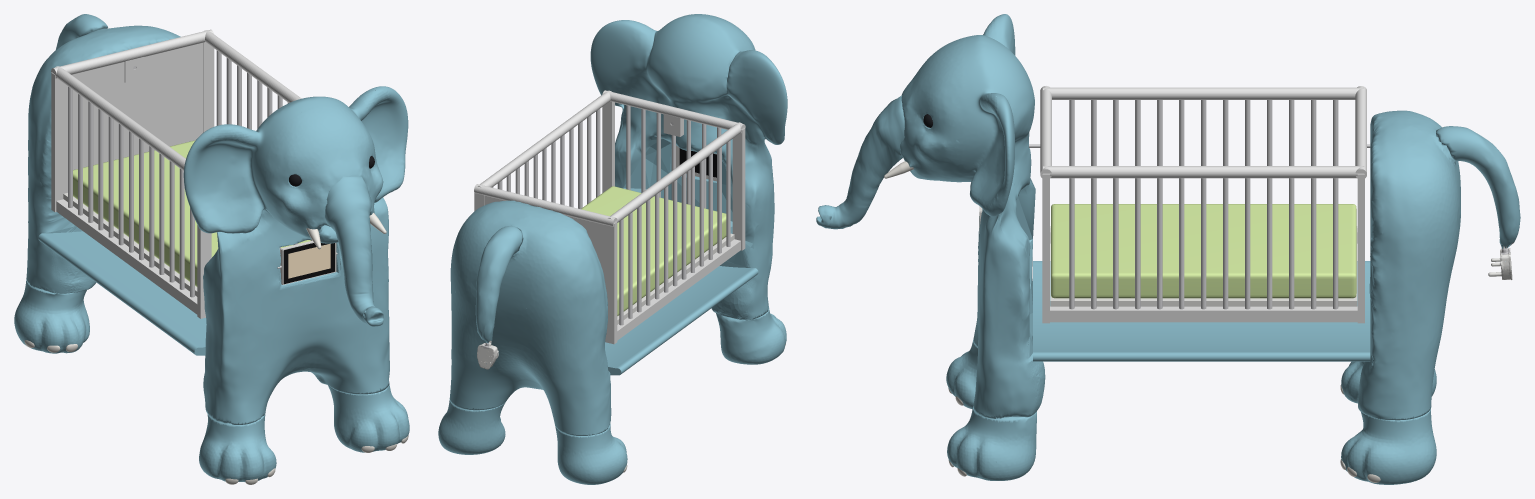
The model's file is 3Dmodel.glb.
The picture shows the model from 3 angles, left to right: view 1: azimuth 30°, elevation 25°; view 2: azimuth 150°, elevation 25°; view 3: azimuth 270°, elevation 25°; orthographic projection. The views are drawn at different scales.
Visible parts, largest first — view 1: Body_Front_HeadChest, Bassinet_Frame, Body_Rear_Rump, Belly_Tray, Mattress_900x500, Trunk, Leg_Back_R, Leg_Front_L, Leg_Front_R, Display_ActiveArea, Tail, Bassinet_BaseBoard (+15 smaller); view 2: Body_Rear_Rump, Body_Front_HeadChest, Bassinet_Frame, Mattress_900x500, Belly_Tray, Tail, Leg_Back_R, Leg_Front_R, Leg_Back_L, Rod_SideR_06, Bassinet_BaseBoard, Rod_SideR_07 (+17 smaller); view 3: Body_Front_HeadChest, Body_Rear_Rump, Mattress_900x500, Bassinet_Frame, Belly_Tray, Leg_Back_L, Leg_Front_L, Trunk, Tail, Bassinet_BaseBoard, Leg_Front_R, Rod_SideL_06 (+13 smaller).
Boxes of the visible parts, x1,y1,x2,y2 form: Body_Front_HeadChest: (183,86,408,424); Bassinet_Frame: (51,29,301,318); Body_Rear_Rump: (26,25,180,293); Belly_Tray: (38,227,206,355); Mattress_900x500: (73,140,310,286); Trunk: (325,176,383,326); Leg_Back_R: (14,280,89,353); Leg_Front_L: (328,383,409,452); Leg_Front_R: (199,414,276,482); Display_ActiveArea: (288,243,330,278); Tail: (56,14,107,49); Bassinet_BaseBoard: (63,193,197,296); Body_Rear_Rump: (449,200,611,435); Body_Front_HeadChest: (590,14,787,320); Bassinet_Frame: (474,90,745,344); Mattress_900x500: (581,186,726,315); Belly_Tray: (605,261,758,375); Tail: (475,226,523,369); Leg_Back_R: (555,424,627,484); Leg_Front_R: (716,306,786,364); Leg_Back_L: (438,400,505,454); Rod_SideR_06: (681,173,686,279); Bassinet_BaseBoard: (617,233,734,324); Rod_SideR_07: (673,179,677,286); Body_Front_HeadChest: (900,14,1045,418); Body_Rear_Rump: (1358,110,1460,420); Mattress_900x500: (1051,204,1356,298); Bassinet_Frame: (1040,86,1366,323); Belly_Tray: (1033,261,1370,361); Leg_Back_L: (1341,407,1436,484); Leg_Front_L: (947,408,1036,480); Trunk: (816,95,904,229); Tail: (1436,126,1520,280); Bassinet_BaseBoard: (1050,226,1357,306); Leg_Front_R: (946,340,977,409); Rod_SideL_06: (1179,178,1184,309).
Size of the model in its own units: 0.8225 by 1.28 by 2.07.
